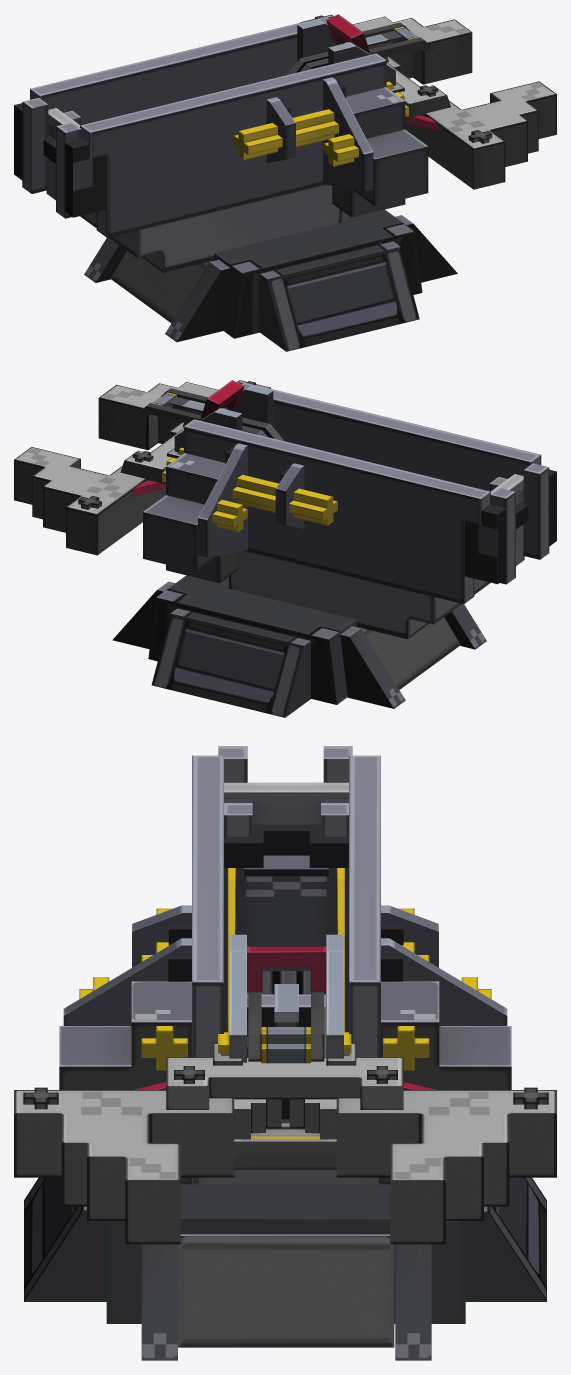
The model's file is trap_192_archook.fbx.
3 views of the same model, one above another, from view 1: azimuth 30°, elevation 25°; view 2: azimuth 150°, elevation 25°; view 3: azimuth 270°, elevation 25° (orthographic). The views are drawn at different scales.
Parts seen in each view (by area): view 1: trap_192_archook; view 2: trap_192_archook; view 3: trap_192_archook.
Boxes of the visible parts, bbox=[...] form: trap_192_archook: bbox=[14, 14, 556, 351]; trap_192_archook: bbox=[14, 380, 556, 717]; trap_192_archook: bbox=[14, 746, 556, 1360].
Bounding box in the file's own units: 1.74 × 0.8314 × 1.13.
1 material, 1 textured.
